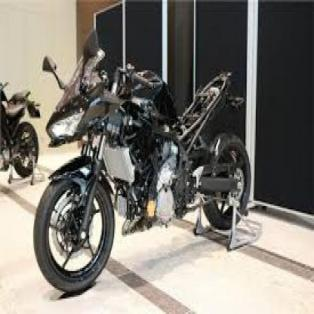Motocicleta: (32, 48, 261, 286)
